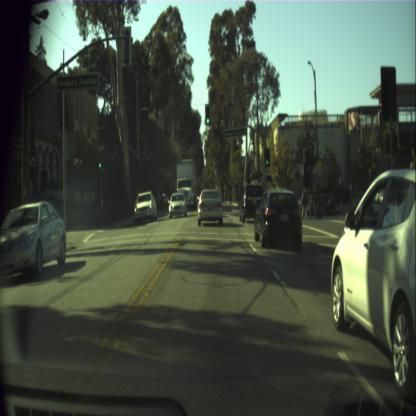Green: (264, 147, 270, 166), (206, 106, 209, 124), (98, 152, 101, 168)
